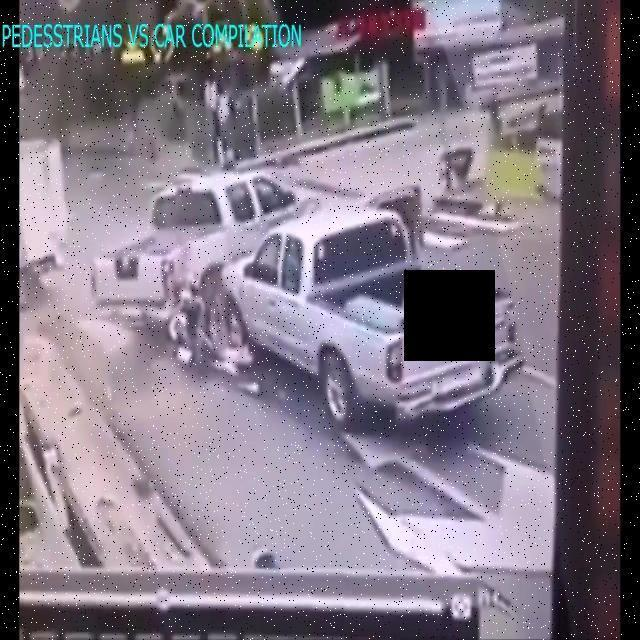multiple_accident: (117, 123, 547, 448)
